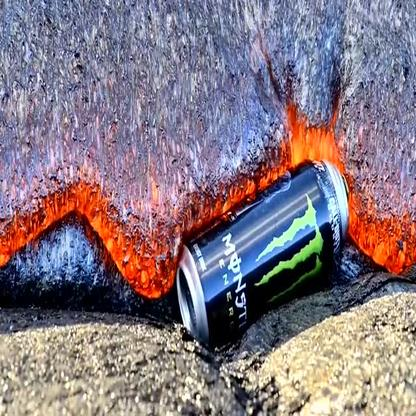can: (164, 147, 359, 349)
